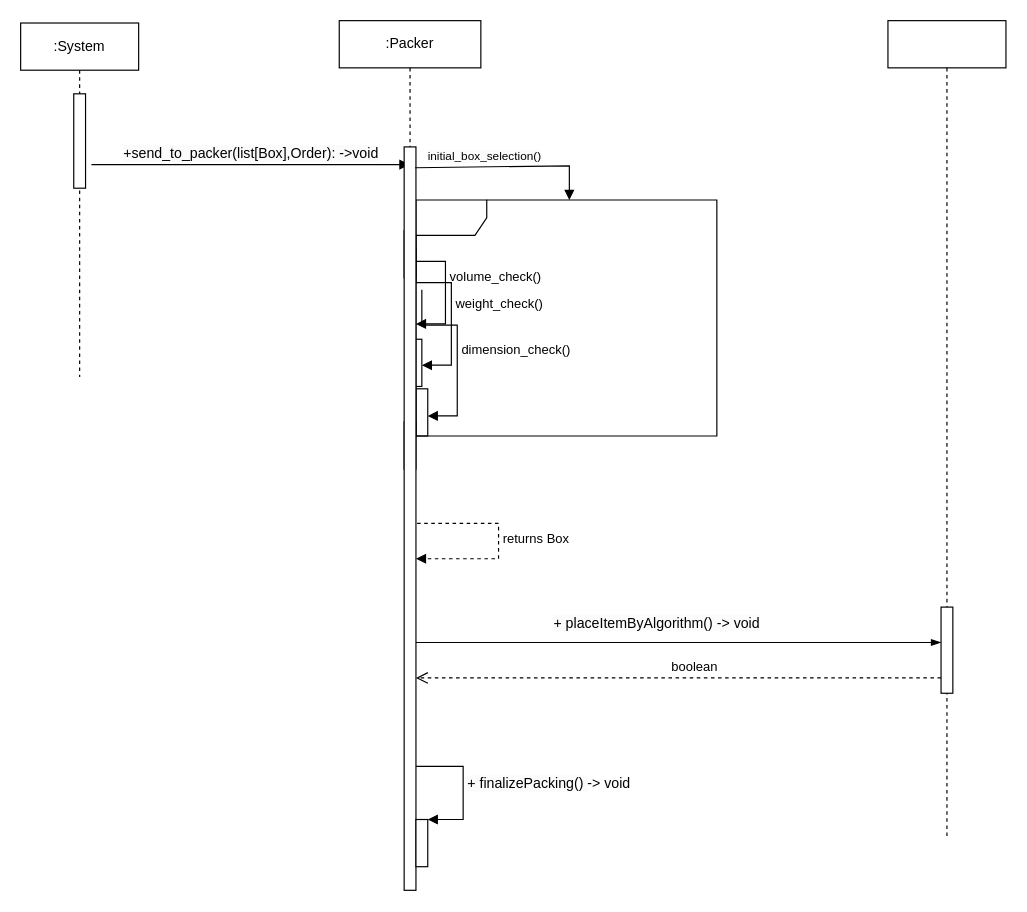
The diagram is 1027 pixels wide and 912 high, and some of its shapes have lost their labels. The shapes that lost their labels are listed below. From the top down, each one's box as (x1, y1, x2, y2) in pixels, then its label:
(415, 199, 717, 436): loop n
(887, 19, 1006, 837): : Algorithm
